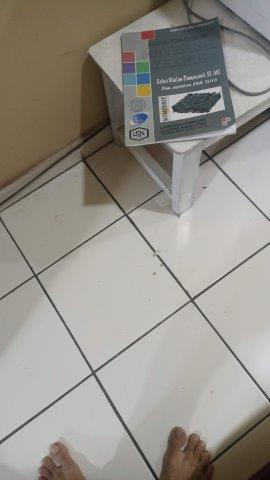kertas: (119, 15, 236, 144)
